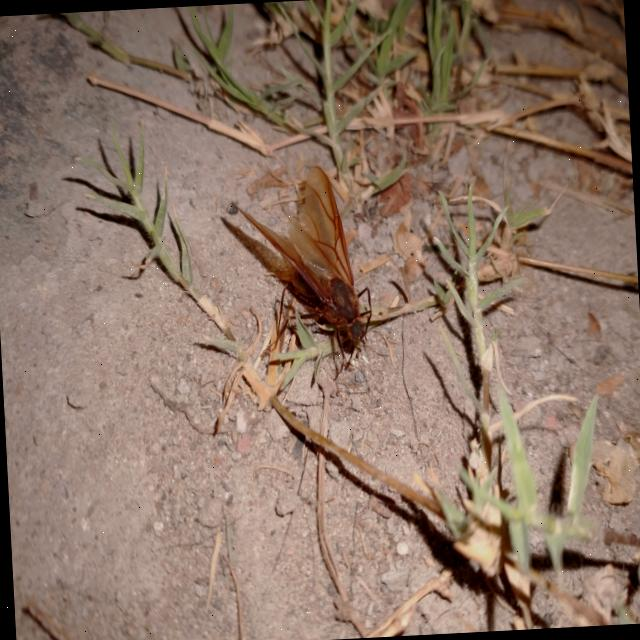Alive-Male-Alate: (230, 162, 399, 386)
